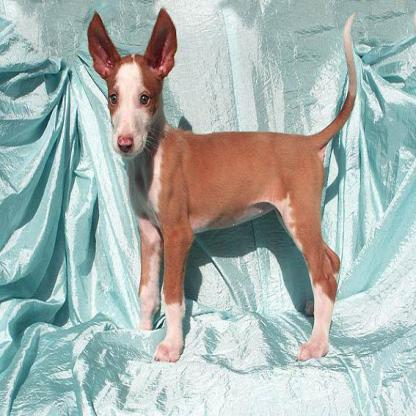dog: (85, 3, 372, 367)
